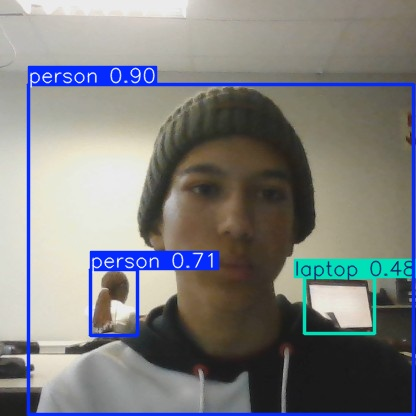laptop: (304, 278, 374, 334)
